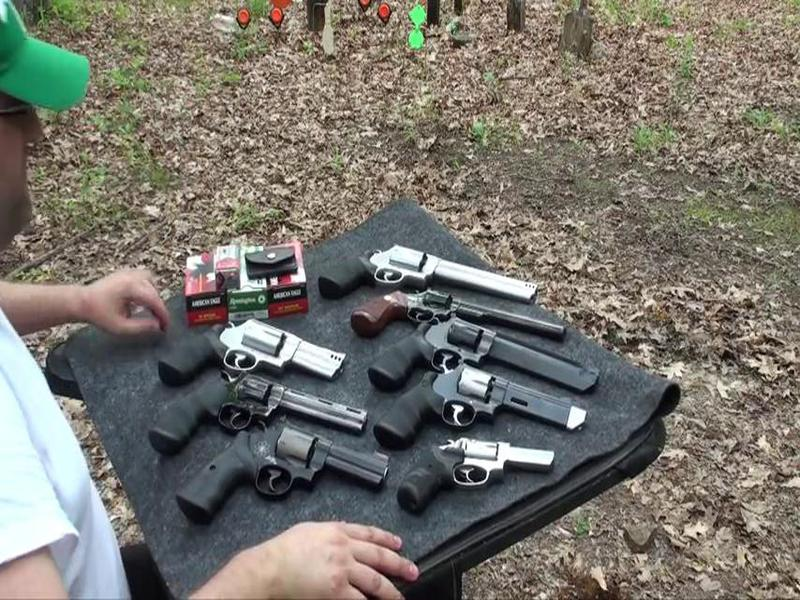Revolver: (341, 282, 572, 347)
